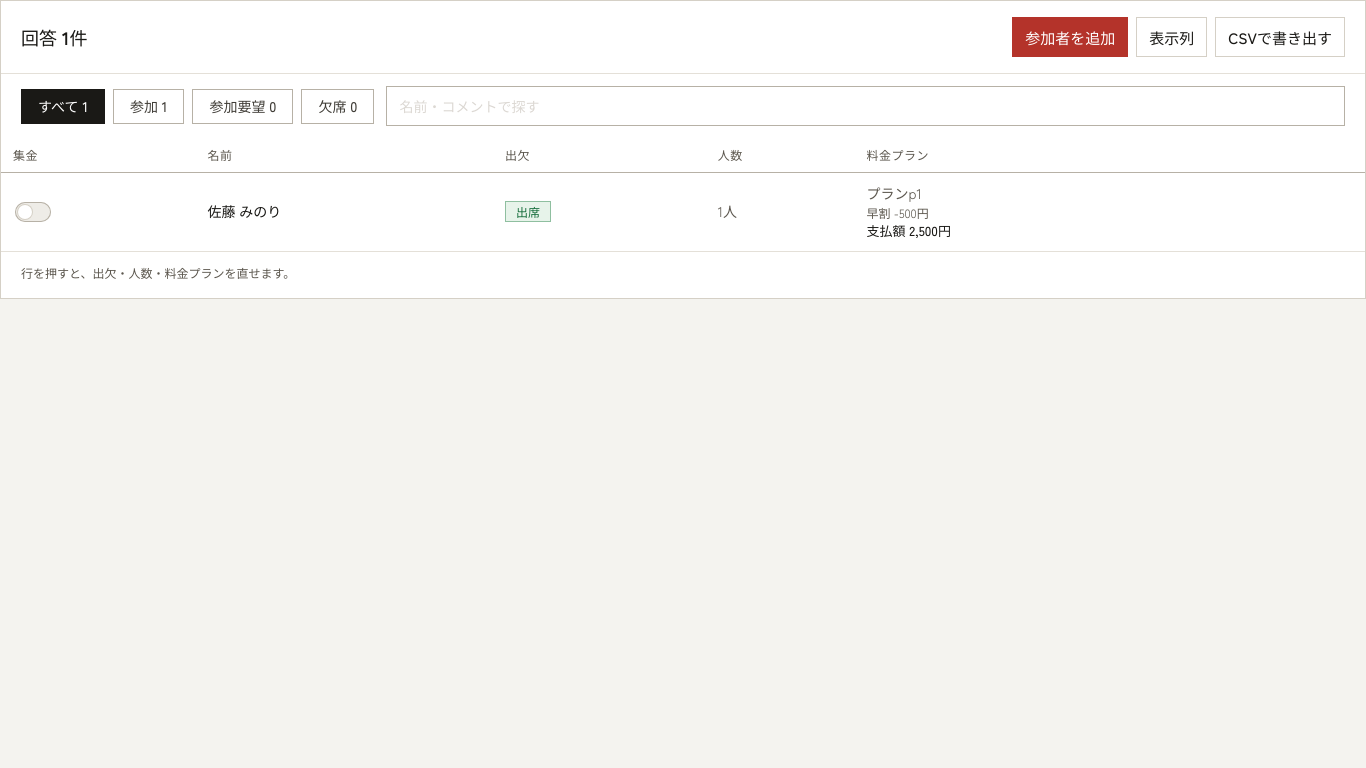
Scenario: 参加者の追加 › 「参加者を追加」を押すと、名簿に載せる人の 1 枚が開く
The image size is (1366, 768).
Click the button "参加者を追加" at coordinates (1070, 37), box [1012,17,1128,57]
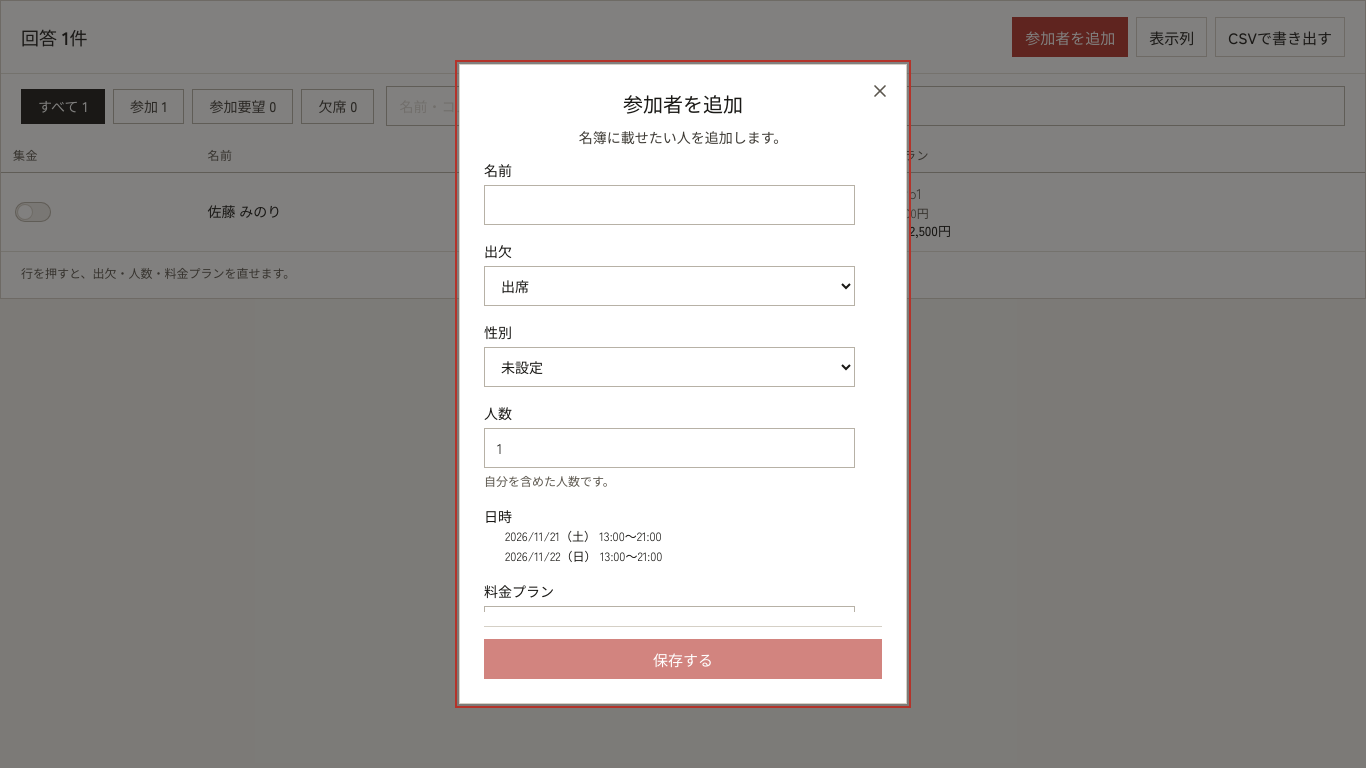
Now the heading "参加者を追加" is shown, box [623,89,743,118]
Now the text "名簿に載せたい人を追加します。" is shown, box [579,127,787,147]
